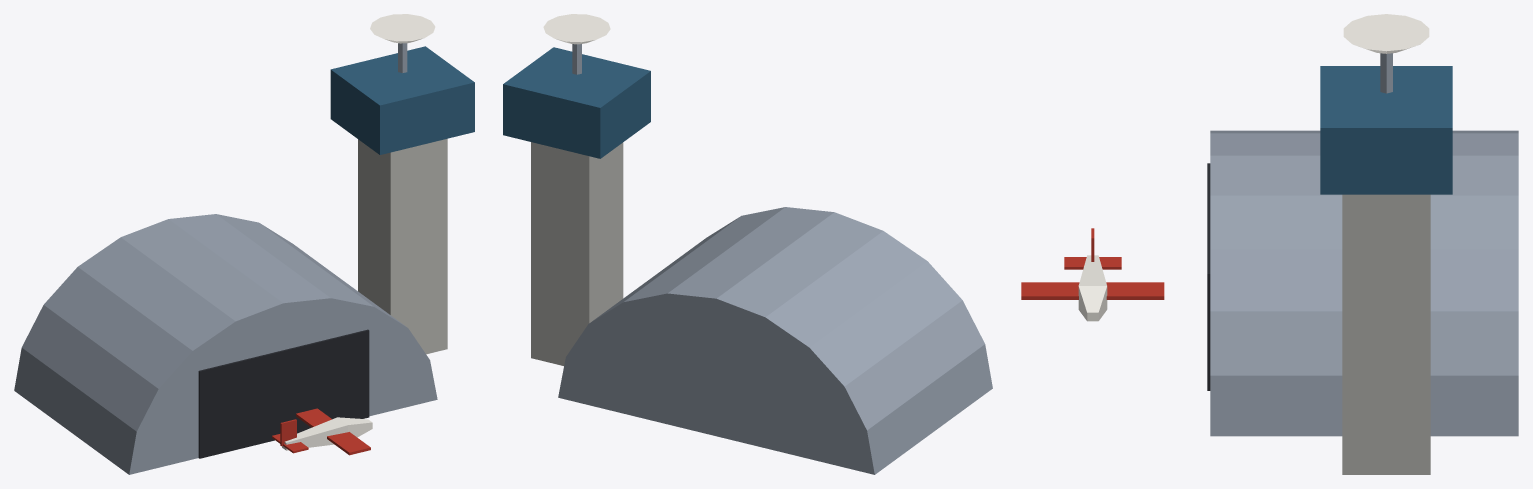
Rendered from building_airport.fbx.
3 renders of one model, left to right at view 1: azimuth 30°, elevation 25°; view 2: azimuth 150°, elevation 25°; view 3: azimuth 270°, elevation 25°, orthographic. The views are drawn at different scales.
Visible parts, largest first — view 1: building_airport; view 2: building_airport; view 3: building_airport.
Boxes of the visible parts, x1,y1,x2,y2 form: building_airport: (14, 14, 474, 474); building_airport: (503, 14, 992, 474); building_airport: (1021, 14, 1518, 474).
Size of the model in its own units: 81.5 by 63.7 by 67.75.
